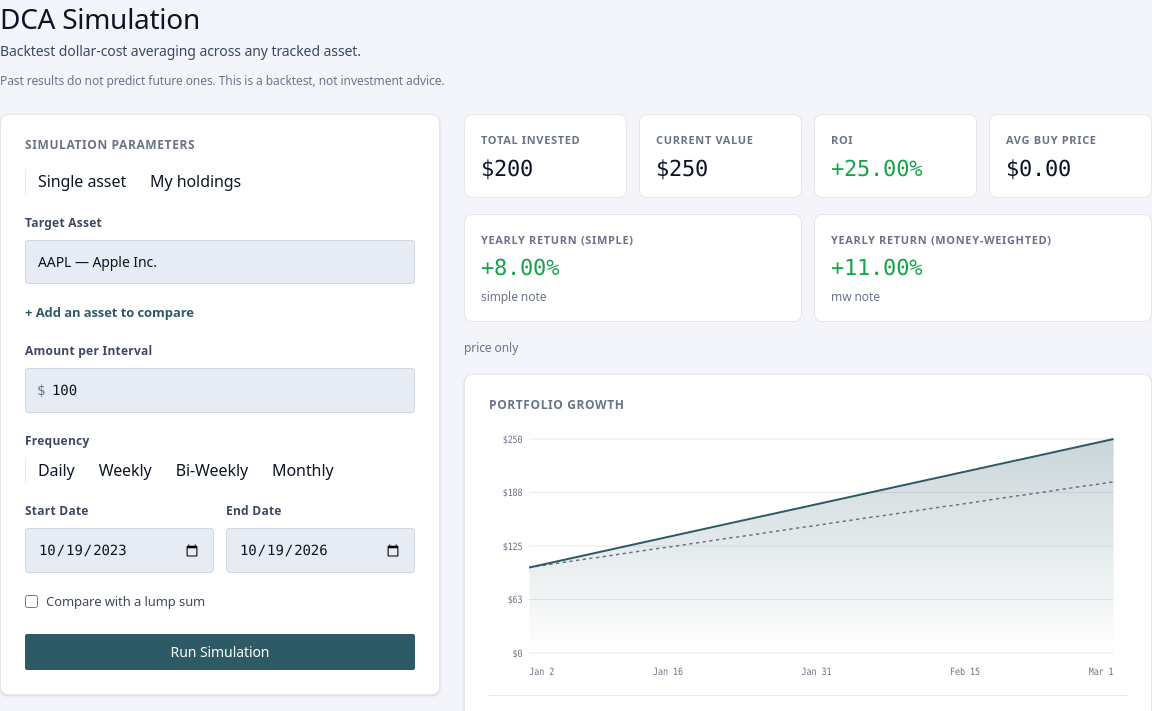
Scenario: DCASimulation: simulate my holdings › shows a helpful message, not an error, for a portfolio with no holdings, and sends nothing
This screenshot has width=1152, height=711.
expect the text "Total Invested" is shown: met, box x1=481 y1=132 x2=580 y2=147
Click the radio button labelled "My holdings" at (196, 182), box x1=138 y1=169 x2=253 y2=195
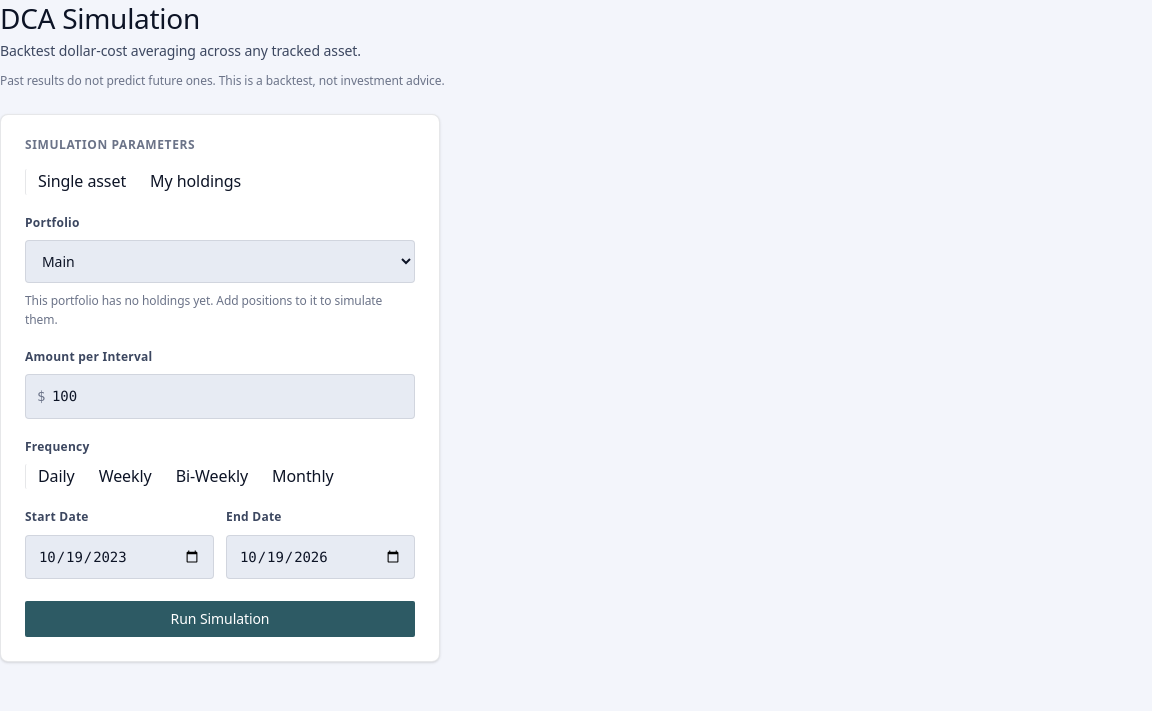
expect the text "This portfolio has no holdings yet. Add positions to it to simulate them." is shown: met, box x1=25 y1=291 x2=415 y2=329
